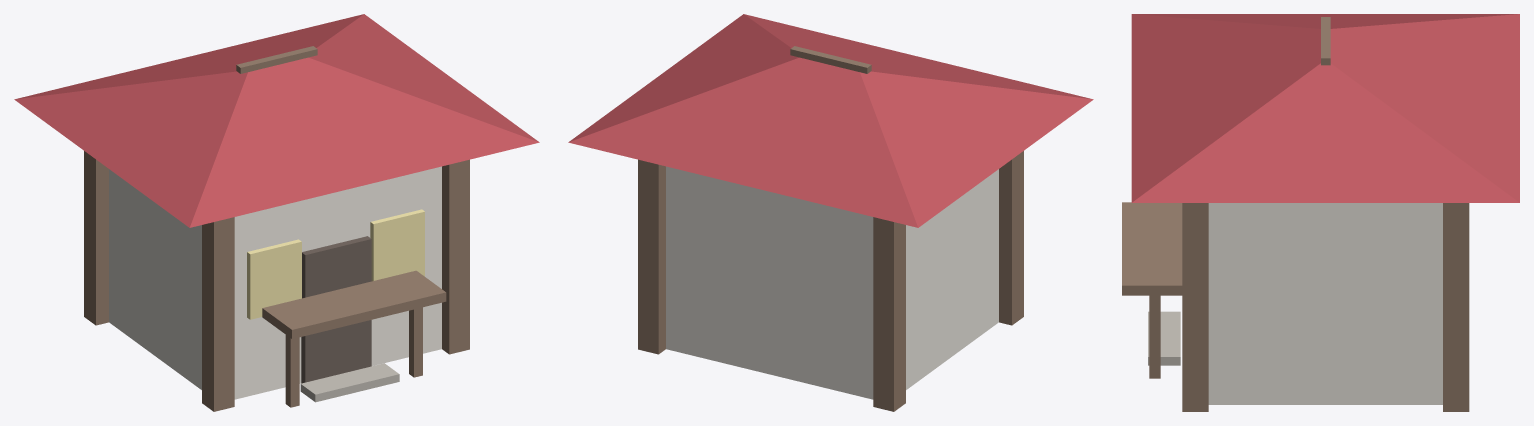
Rendered from residential_a.glb.
3 renders of one model, left to right at view 1: azimuth 30°, elevation 25°; view 2: azimuth 150°, elevation 25°; view 3: azimuth 270°, elevation 25°, orthographic. The views are drawn at different scales.
Size of the model in its own units: 4.75 by 3.58 by 4.23.
